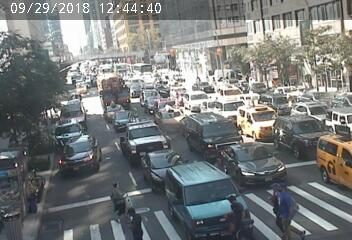car: (175, 171, 220, 220), (56, 136, 97, 170), (128, 125, 164, 154), (317, 141, 342, 174), (147, 152, 174, 182), (233, 148, 258, 178), (101, 78, 132, 102), (198, 119, 229, 142), (216, 96, 242, 115), (250, 106, 269, 130), (62, 102, 86, 119), (334, 103, 349, 130), (155, 113, 182, 128), (278, 126, 300, 143), (184, 87, 205, 104), (57, 121, 82, 135), (267, 88, 283, 106), (103, 105, 121, 117), (294, 102, 311, 112), (118, 114, 130, 125), (145, 88, 157, 97), (151, 97, 167, 103), (221, 81, 231, 89), (75, 82, 83, 86)
